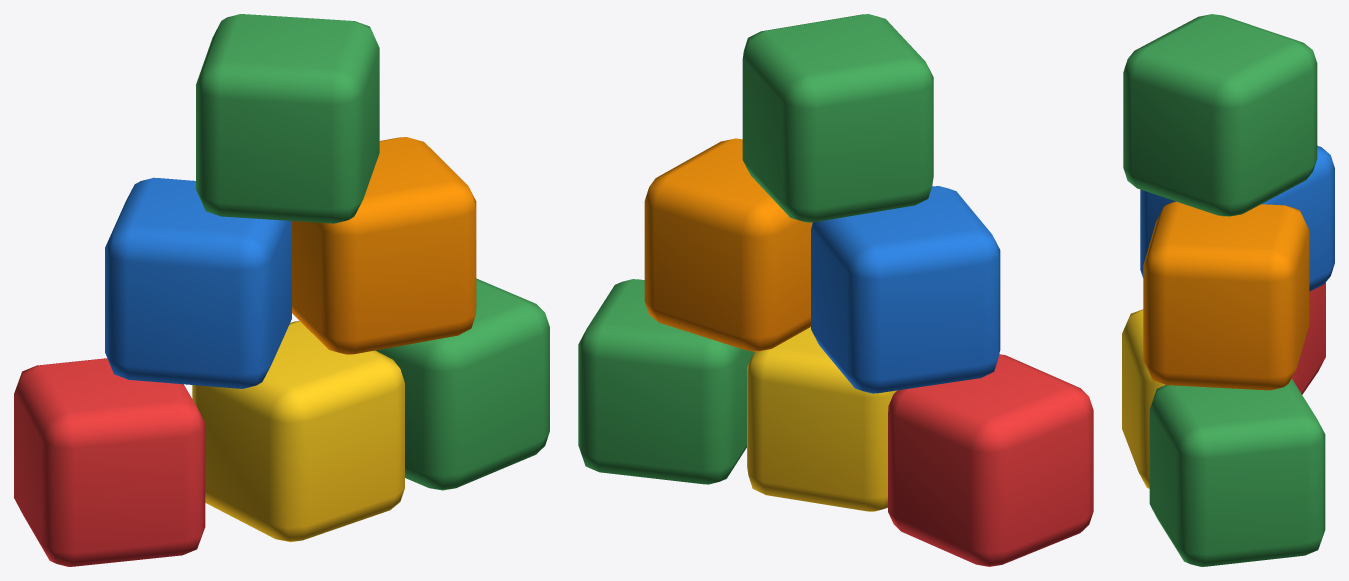
Rendered from Furniture_Ornament_04.fbx.
3 views of the same model, side by side, from view 1: azimuth 30°, elevation 25°; view 2: azimuth 150°, elevation 25°; view 3: azimuth 270°, elevation 25° (orthographic). The views are drawn at different scales.
Visible parts, largest first — view 1: Furniture_Ornament_04; view 2: Furniture_Ornament_04; view 3: Furniture_Ornament_04.
Boxes of the visible parts, <box> form: Furniture_Ornament_04: <box>14,14,549,566</box>; Furniture_Ornament_04: <box>578,14,1093,566</box>; Furniture_Ornament_04: <box>1122,14,1334,566</box>.
Size of the model in its own units: 97.4 by 86.07 by 39.31.
